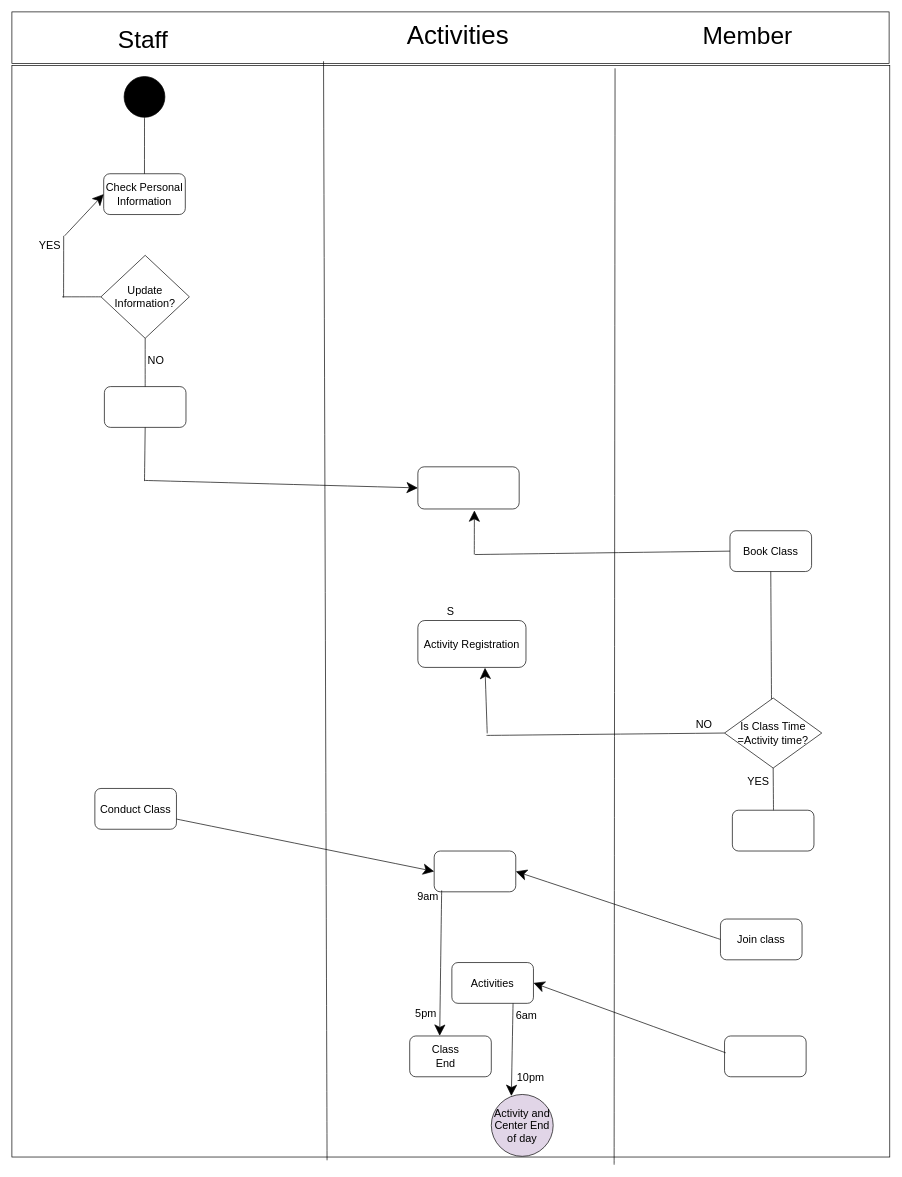
The diagram is 902 pixels wide and 1177 high, and some of its shapes have lost their labels. The shapes that lost their labels are listed below. From the top down, each one's centre as x and y in pixels, then its label:
At (145,406): "Open Classes Registration".
At (468,487): "ClassRegistrations".
At (773,830): "Register for different time slot activity".
At (475,871): "Class".
At (765,1056): "Join Activity".
